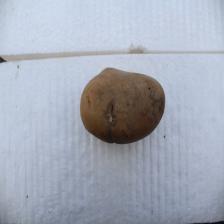Damaged potato: (80, 66, 166, 153)
